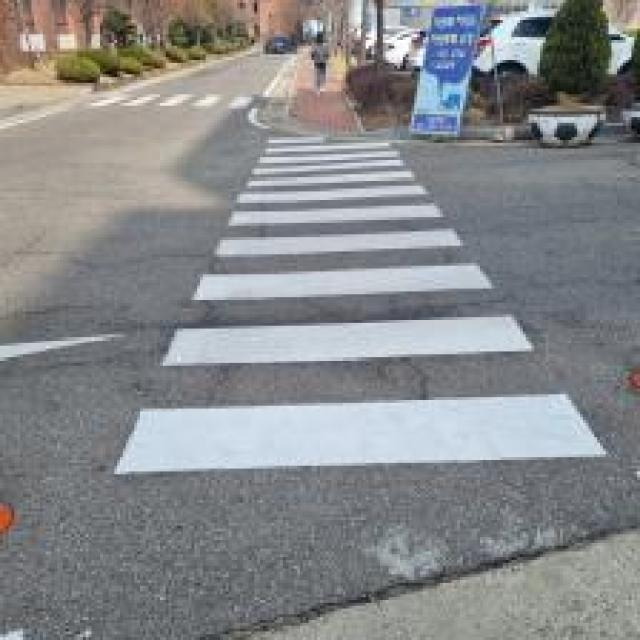walk-crossing: (149, 114, 583, 492), (94, 93, 261, 110)
